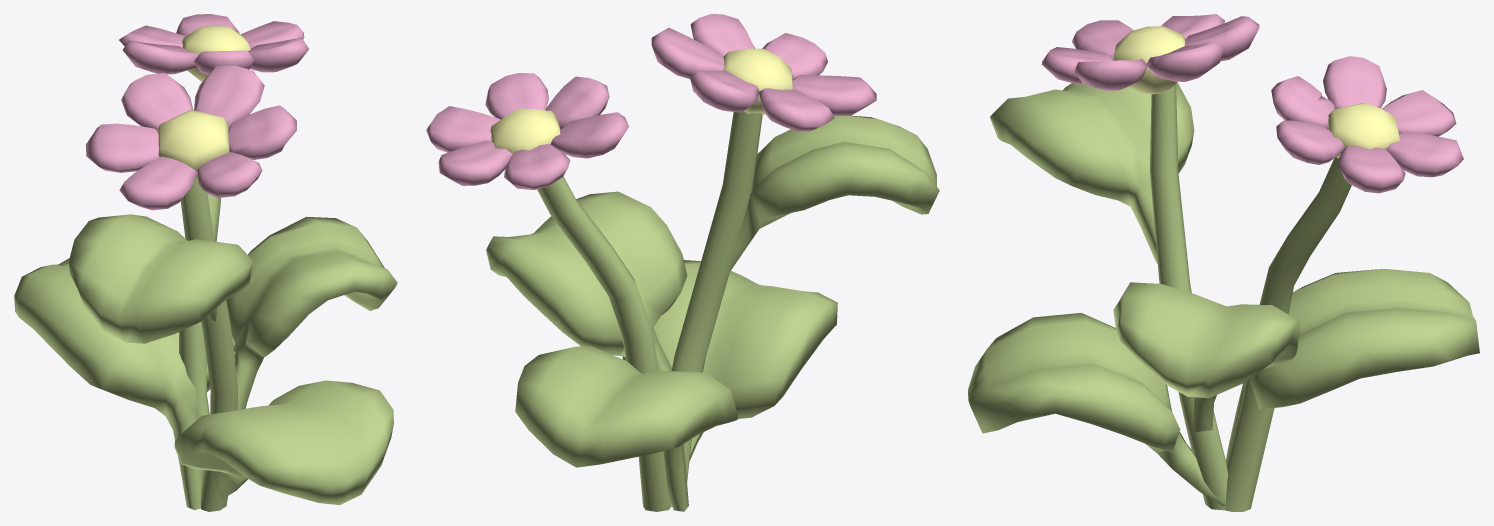
Rendered from Flower_11.fbx.
3 views of the same model, side by side, from view 1: azimuth 30°, elevation 25°; view 2: azimuth 150°, elevation 25°; view 3: azimuth 270°, elevation 25° (orthographic). The views are drawn at different scales.
Visible parts, largest first — view 1: polySurface625; view 2: polySurface625; view 3: polySurface625.
Part boxes in pixels (left/top/right/bottom): polySurface625: left=14, top=14, right=397, bottom=511; polySurface625: left=426, top=14, right=939, bottom=511; polySurface625: left=968, top=14, right=1479, bottom=511.
Bounding box in the file's own units: 40.96 × 47.8 × 47.48.
